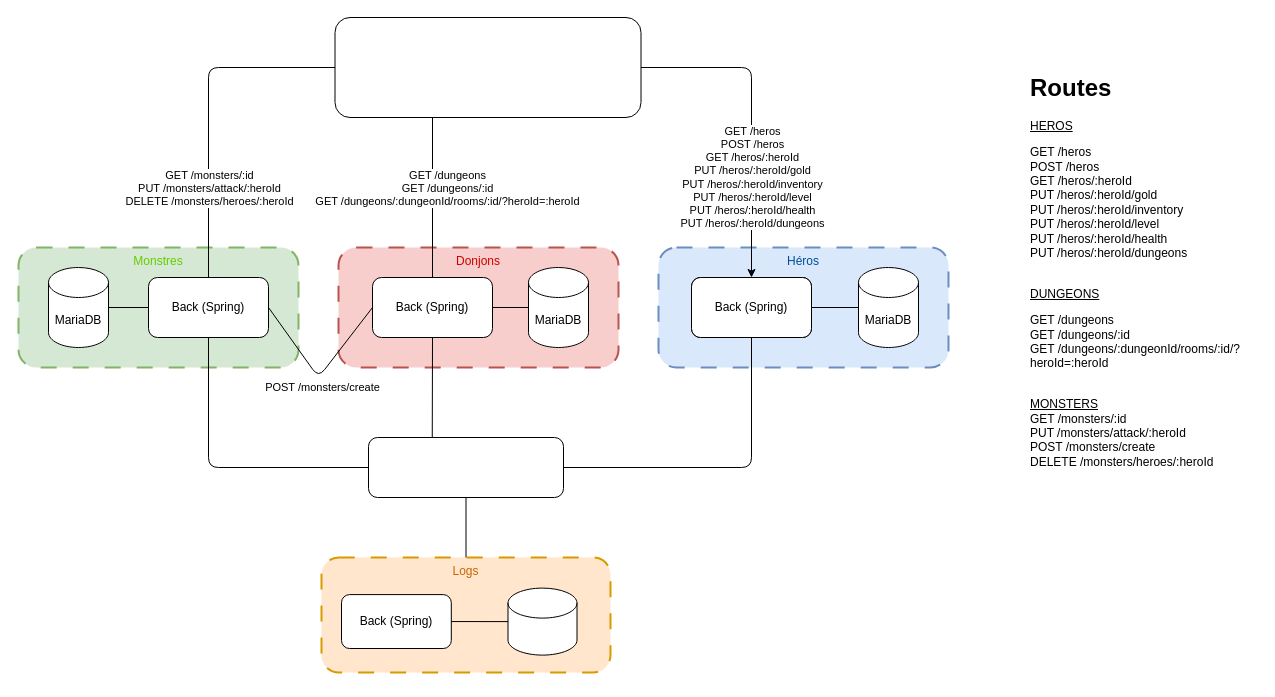
Some shapes in this 1275 by 697 pixel diagram are drawn without their labels. Each missing label, with the centre of its shape:
"Elastic Search" goes at (542,621).
"Front" goes at (487,67).
"RabbitMQ" goes at (466,467).
